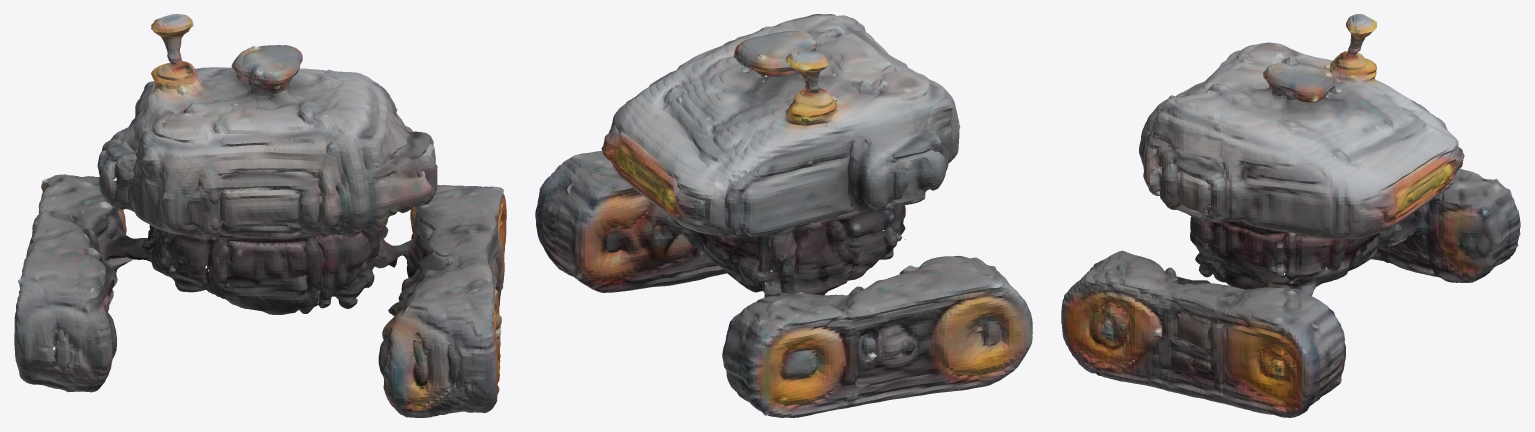
The model's file is room-06-survey-rover.glb.
3 renders of one model, left to right at view 1: azimuth 30°, elevation 25°; view 2: azimuth 150°, elevation 25°; view 3: azimuth 270°, elevation 25°, orthographic. The views are drawn at different scales.
Parts seen in each view (by area): view 1: world; view 2: world; view 3: world.
Part boxes in pixels (x1,y1,x2,y2): world: (14, 14, 506, 417); world: (535, 14, 1032, 417); world: (1061, 14, 1520, 417).
Bounding box in the file's own units: 1.13 × 0.7139 × 1.03.
